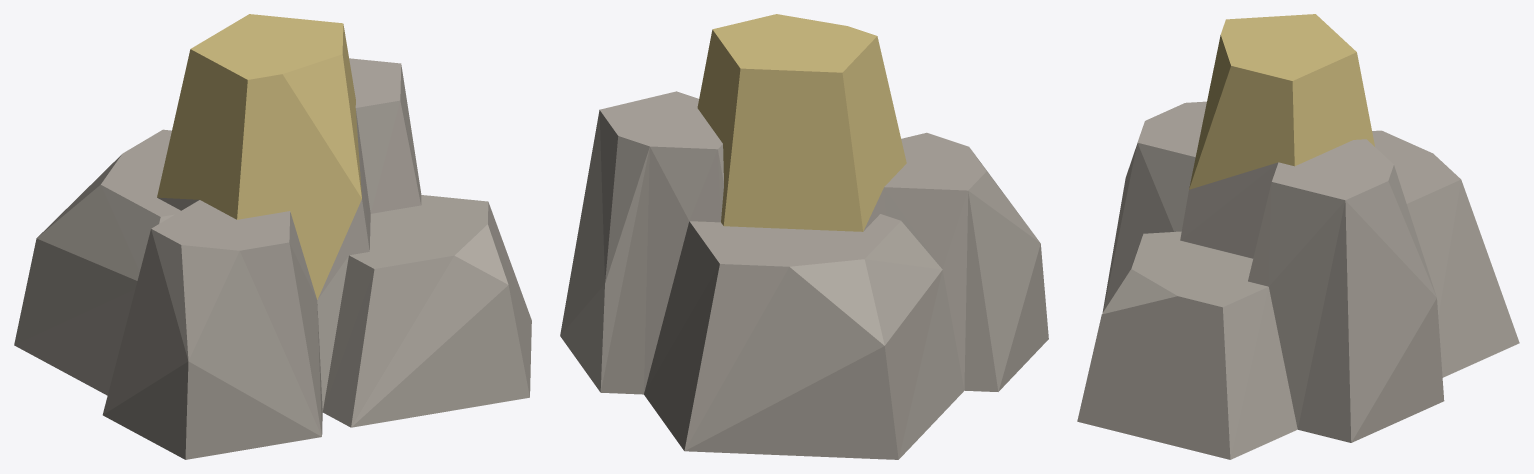
File: resource-crystal-0.glb
3 views of the same model, side by side, from view 1: azimuth 30°, elevation 25°; view 2: azimuth 150°, elevation 25°; view 3: azimuth 270°, elevation 25° (orthographic). The views are drawn at different scales.
Visible parts, largest first — view 1: resource-crystal-0; view 2: resource-crystal-0; view 3: resource-crystal-0.
Part boxes in pixels (box(x1,y1,x2,y2)): resource-crystal-0: box(14, 14, 531, 459); resource-crystal-0: box(560, 14, 1048, 459); resource-crystal-0: box(1077, 14, 1519, 459).
Size of the model in its own units: 0.6754 by 0.4806 by 0.6335.
